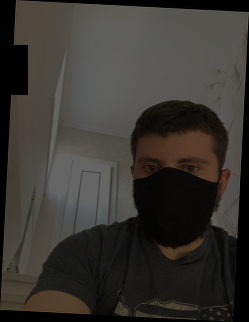with_mask: (130, 145, 219, 250)
